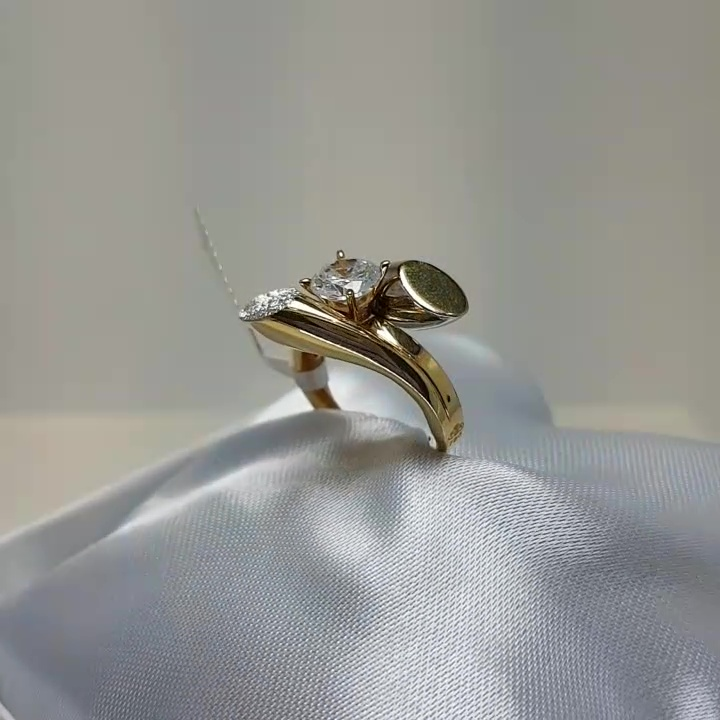Ring 7: (222, 236, 486, 483)
